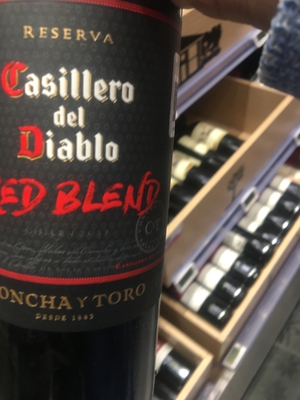casillero del diablo red blend: (2, 1, 177, 392)
